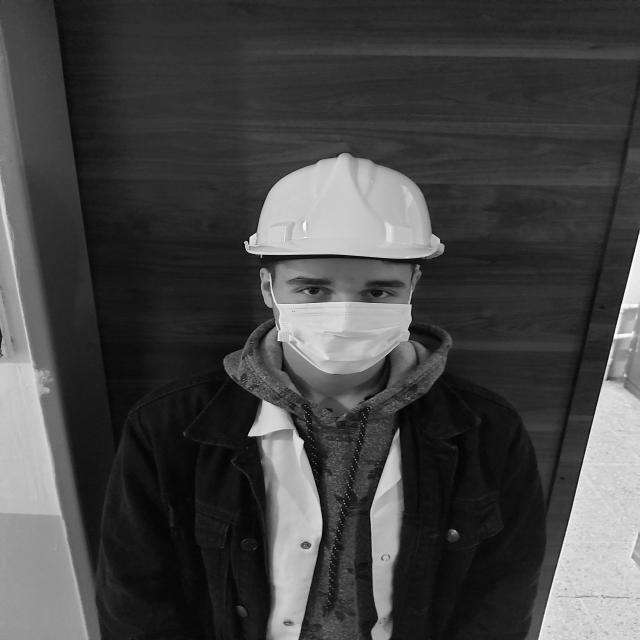safety_helmet: (243, 153, 446, 266)
